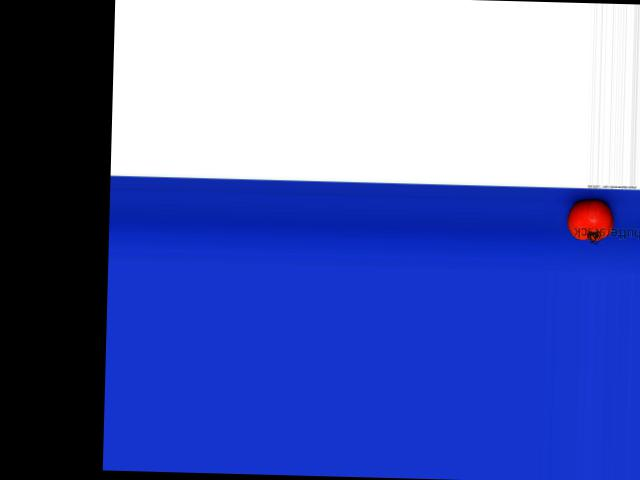tomato: (565, 199, 613, 241)
